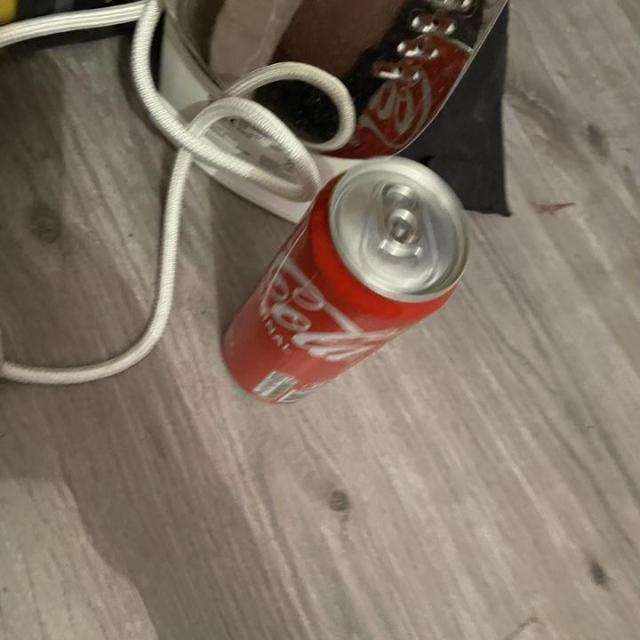can: (217, 153, 471, 407)
